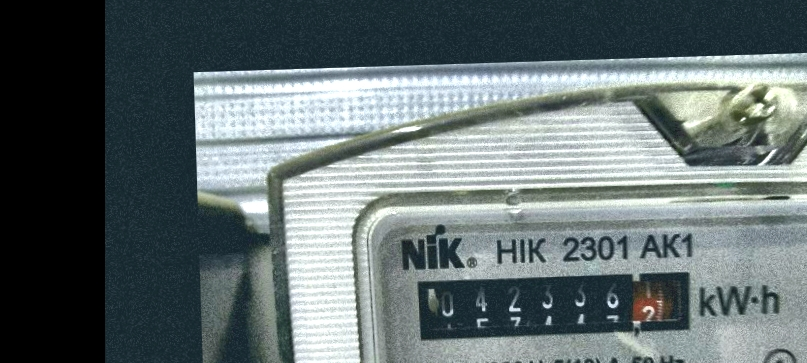0: (438, 289, 455, 318)
1: (641, 277, 654, 299)
2: (506, 283, 523, 313), (640, 303, 656, 321)
3: (570, 278, 587, 308), (538, 281, 554, 310)
4: (472, 283, 490, 313)
6: (604, 279, 622, 309)
screen: (405, 258, 704, 349)
